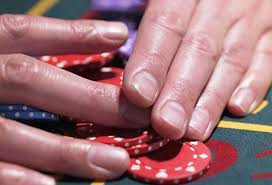nail: (87, 141, 130, 175), (120, 95, 152, 125), (131, 69, 160, 102), (158, 100, 186, 132), (191, 108, 210, 141), (232, 87, 257, 112), (100, 21, 128, 41)
